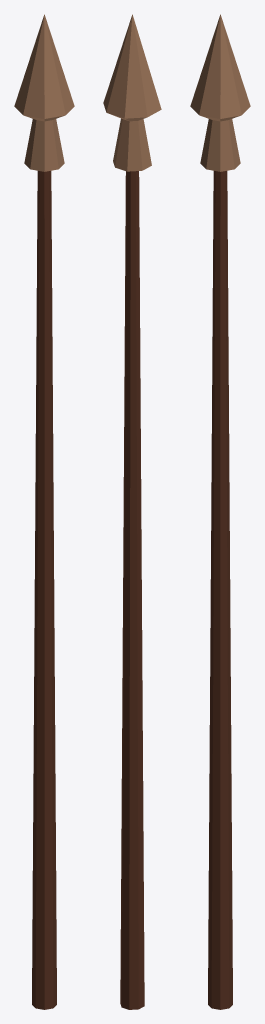
The model's file is NativeCharacters15weapon.fbx.
3 views of the same model, side by side, from view 1: azimuth 90°, elevation 25°; view 2: azimuth 210°, elevation 25°; view 3: azimuth 270°, elevation 25° (orthographic).
Parts seen in each view (by area): view 1: Cylinder.001; view 2: Cylinder.001; view 3: Cylinder.001.
Part boxes in pixels (left/top/right/bottom): Cylinder.001: left=14, top=14, right=74, bottom=1009; Cylinder.001: left=103, top=14, right=161, bottom=1009; Cylinder.001: left=190, top=14, right=250, bottom=1009.
Bounding box in the file's own units: 0.2053 × 3.72 × 0.2053.
